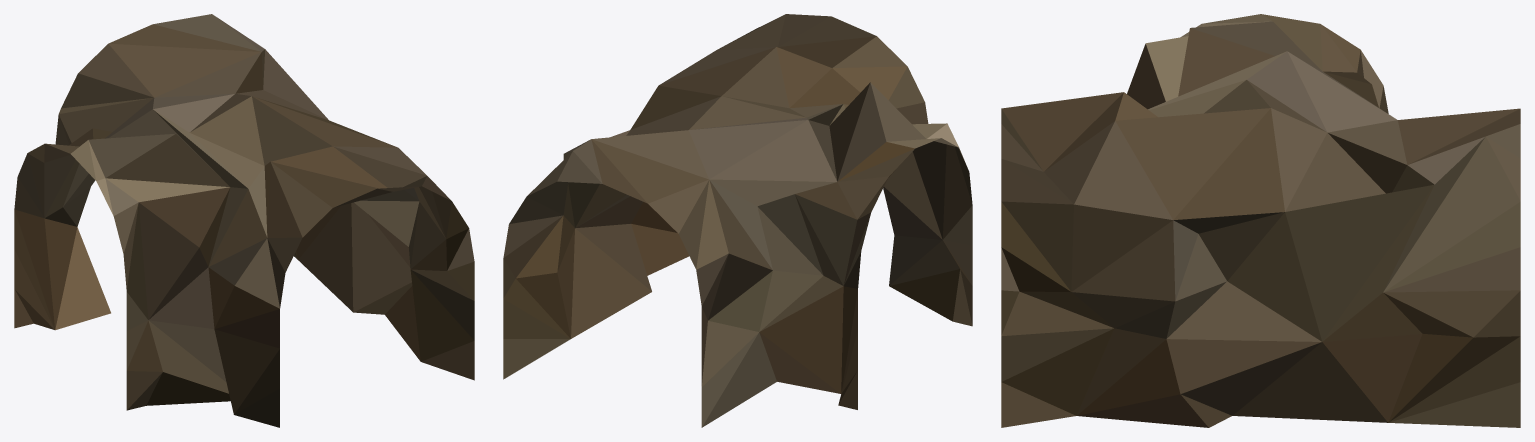
File: Cave-T.fbx
The picture shows the model from 3 angles, left to right: view 1: azimuth 30°, elevation 25°; view 2: azimuth 150°, elevation 25°; view 3: azimuth 270°, elevation 25°; orthographic projection. The views are drawn at different scales.
Parts seen in each view (by area): view 1: Cave-T; view 2: Cave-T; view 3: Cave-T.
Boxes of the visible parts, x1=… form: Cave-T: x1=14, y1=14, x2=474, y2=427; Cave-T: x1=503, y1=14, x2=972, y2=427; Cave-T: x1=1001, y1=14, x2=1520, y2=427.
Bounding box in the file's own units: 806 × 590 × 1000.
